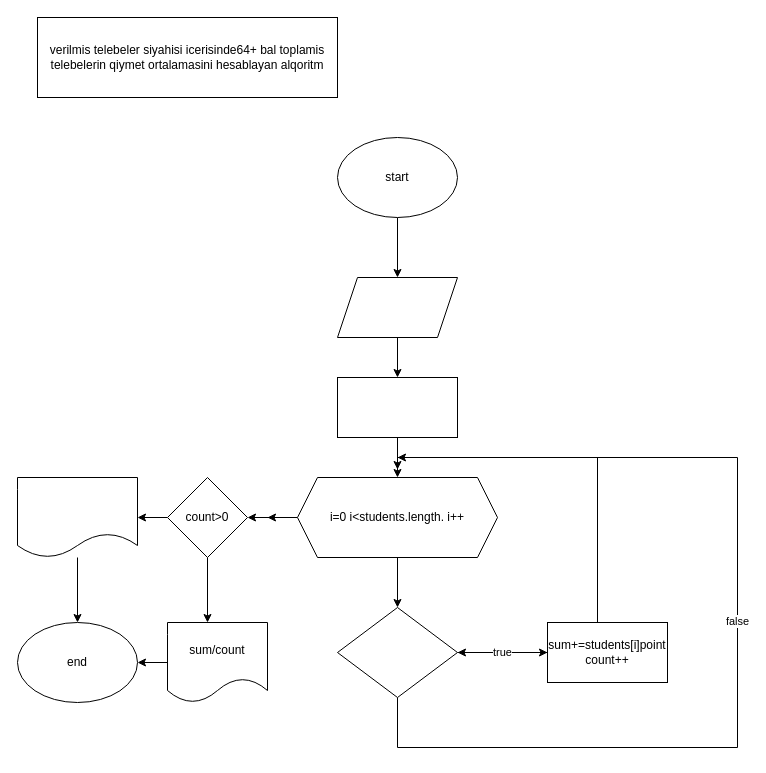
Image size: 766x773. Some labels were removed from this diagram. The shapes that lost their labels are listed below. From the top down, each one's centre as x and y in pixels, then its label:
(397,307): students
(397,407): sum=0 count=0
(77,517): yoxdur
(397,652): students[i]point>64
